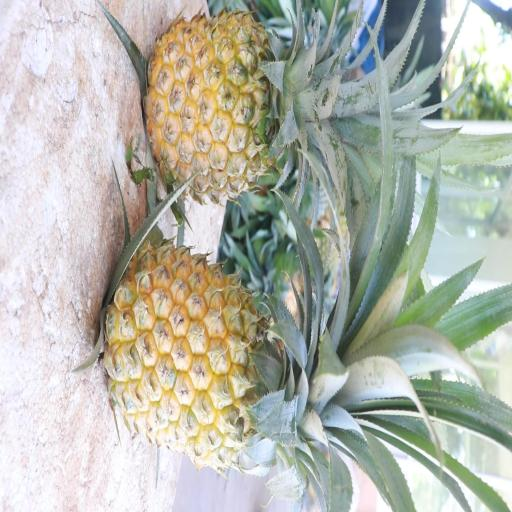Pineapple - v8 v1: (99, 237, 365, 479), (139, 9, 349, 212)
